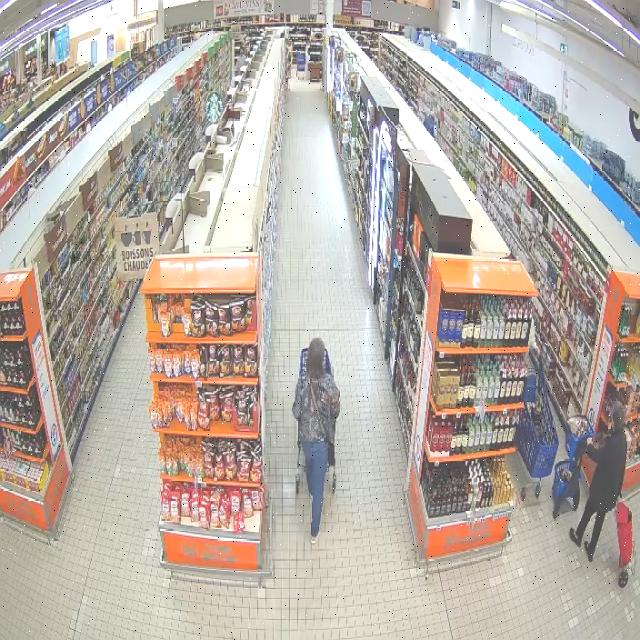bags: (328, 443, 336, 466)
hands: (587, 436, 593, 447)
person: (292, 338, 339, 543), (569, 401, 626, 561)
